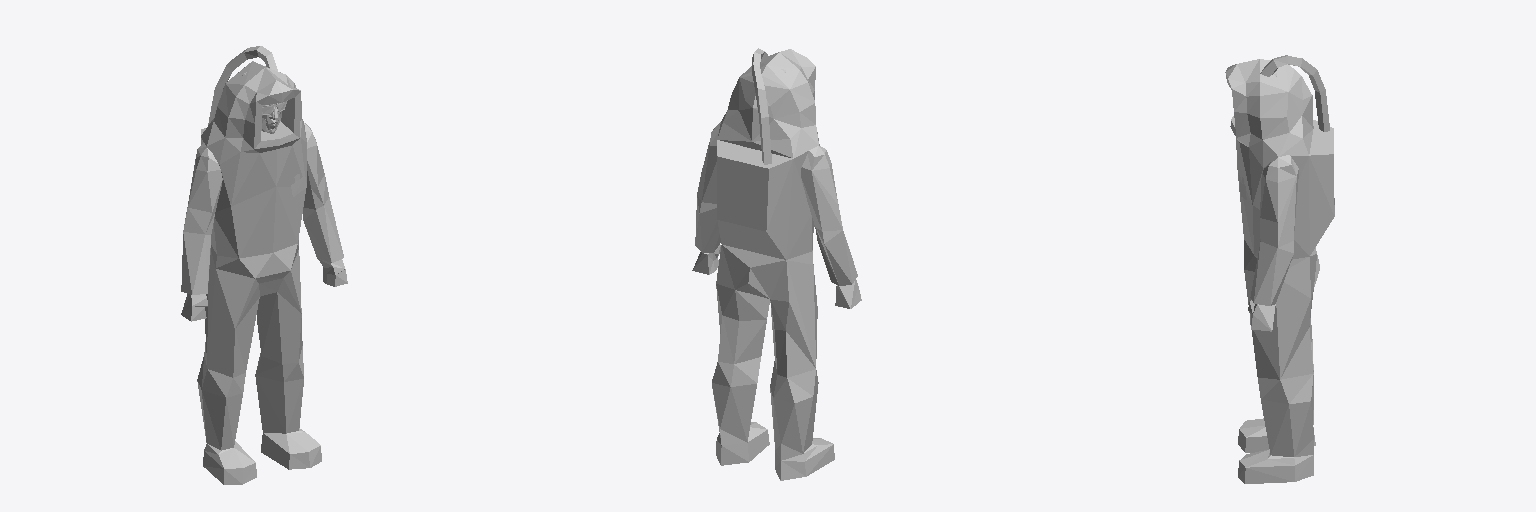
File: Cleansuit HD.obj
3 renders of one model, left to right at view 1: azimuth 30°, elevation 25°; view 2: azimuth 150°, elevation 25°; view 3: azimuth 270°, elevation 25°, orthographic.
Visible parts, largest first — view 1: body; view 2: body; view 3: body.
Boxes of the visible parts, x1=… form: body: x1=181, y1=46, x2=347, y2=484; body: x1=692, y1=48, x2=861, y2=480; body: x1=1225, y1=55, x2=1334, y2=483.
Size of the model in its own units: 29.54 by 72.7 by 17.55.